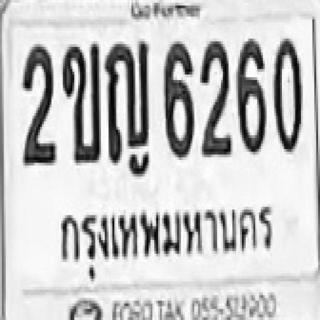A02: (61, 41, 99, 160)
A13: (104, 39, 150, 160)
N00: (272, 36, 301, 149)
N02: (21, 43, 55, 164), (199, 39, 232, 154)
N06: (162, 39, 192, 157), (236, 36, 265, 152)
P04: (53, 202, 279, 284)
